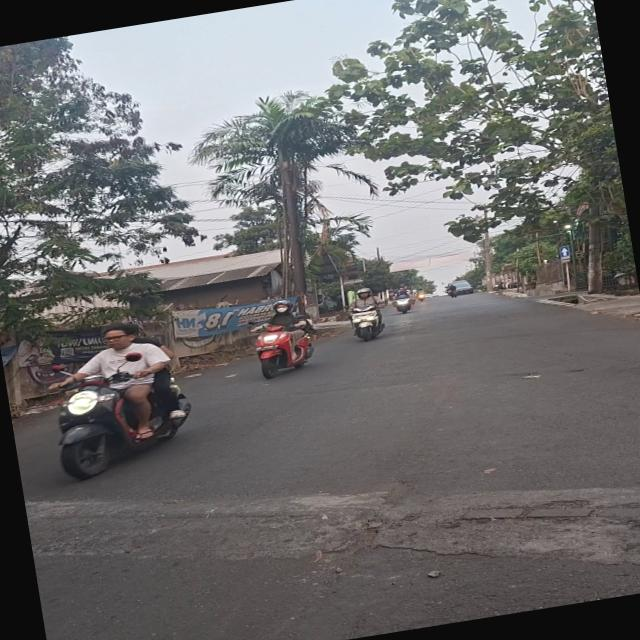WithHelmet: (246, 297, 316, 368), (343, 285, 390, 336)
WithoutHelmet: (32, 314, 205, 484)
